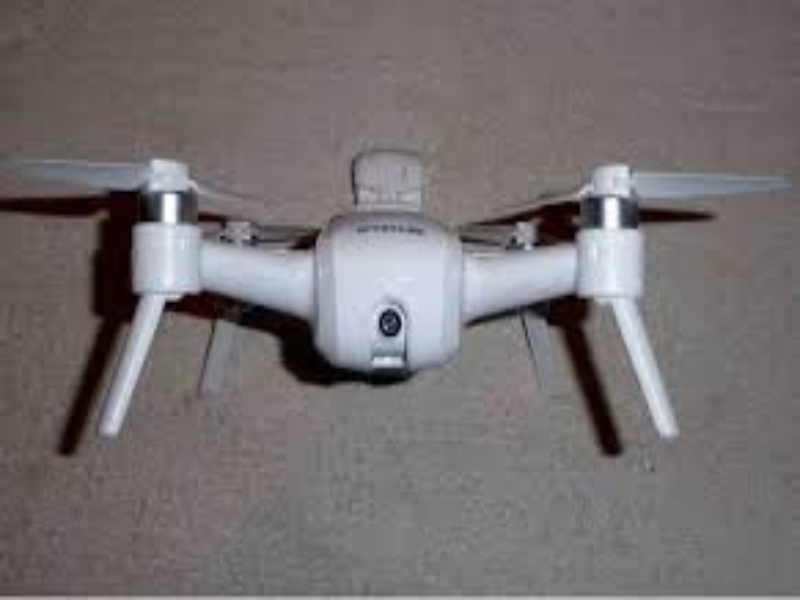drone: (40, 136, 705, 460)
